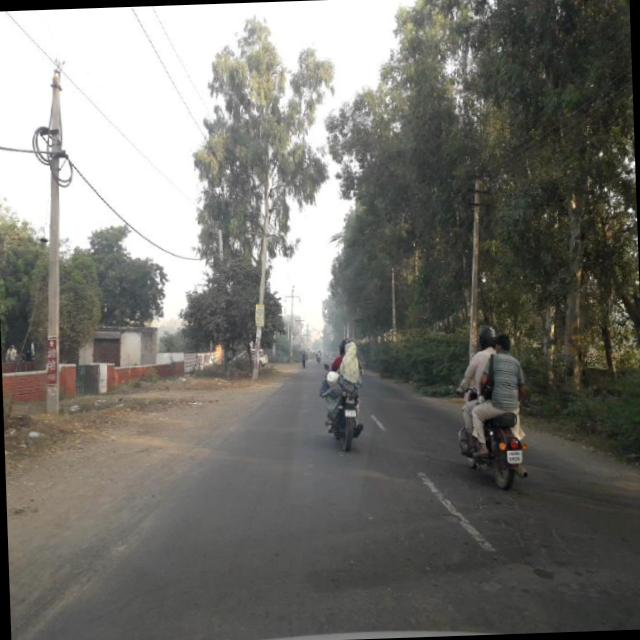crack: (431, 484, 594, 569)
